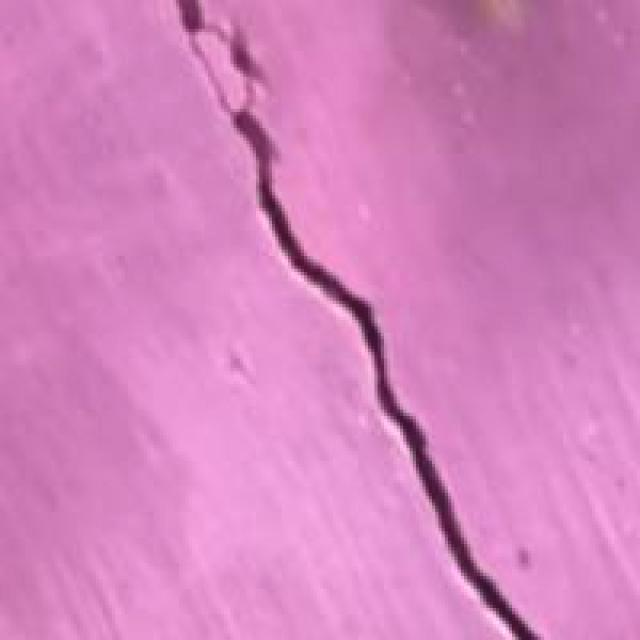crack: (170, 0, 554, 640)
